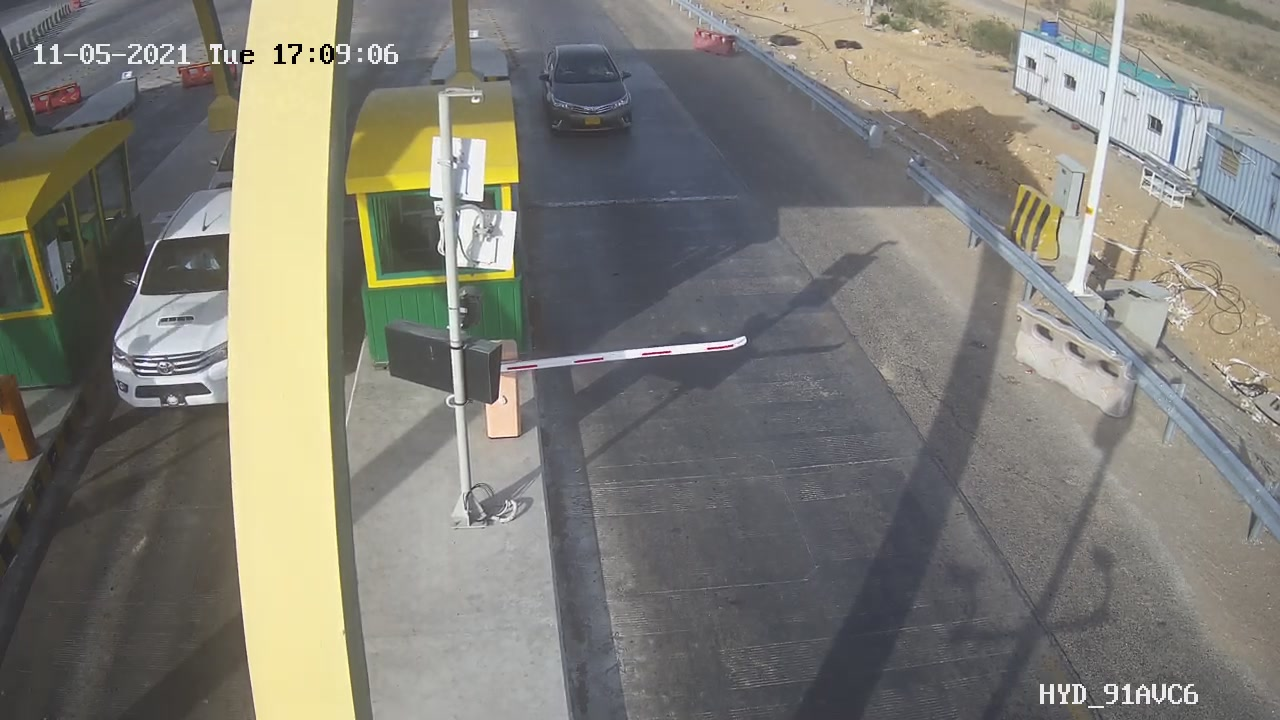F1: (527, 30, 650, 148)
